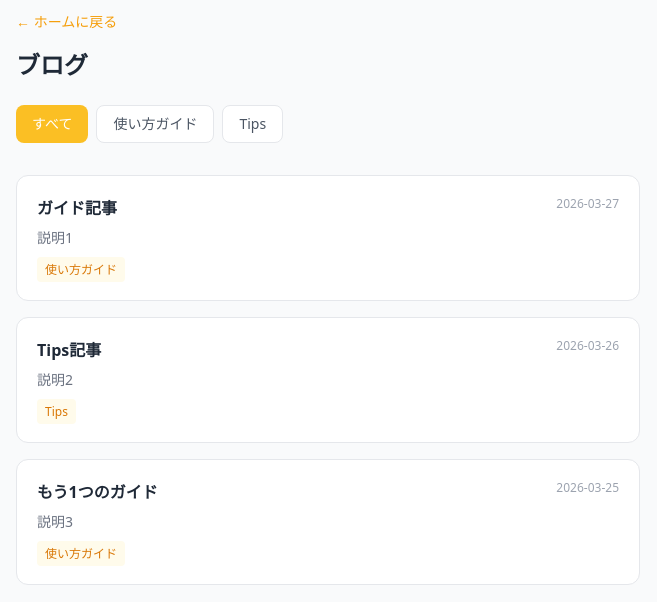
Test: BlogListPage › 使い方ガイドタブでフィルタリングされる
Click the tab "使い方ガイド". click: [156, 124]
box: [96,105,214,143]
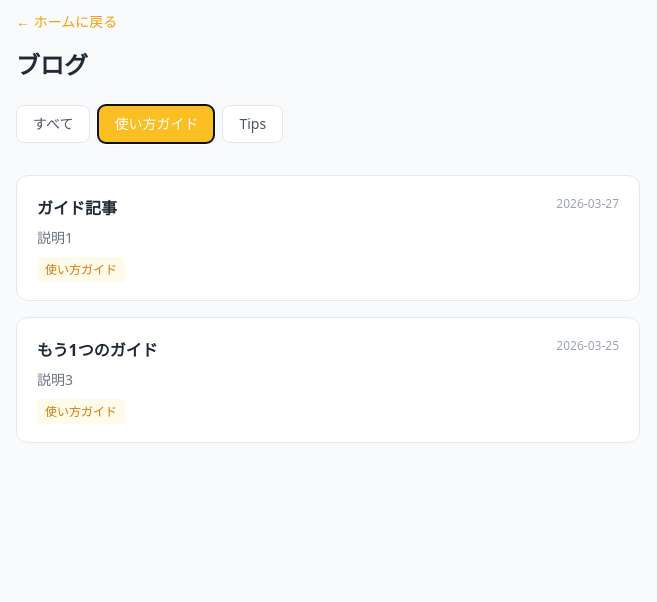
Expected: the heading "ガイド記事" is shown, [37,196,117,220]
Expected: the link "Tips記事" is gone
